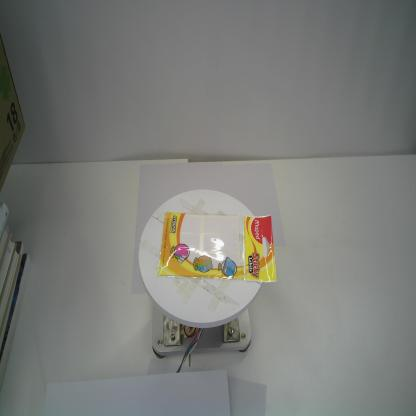Stationery: (156, 209, 278, 285)
